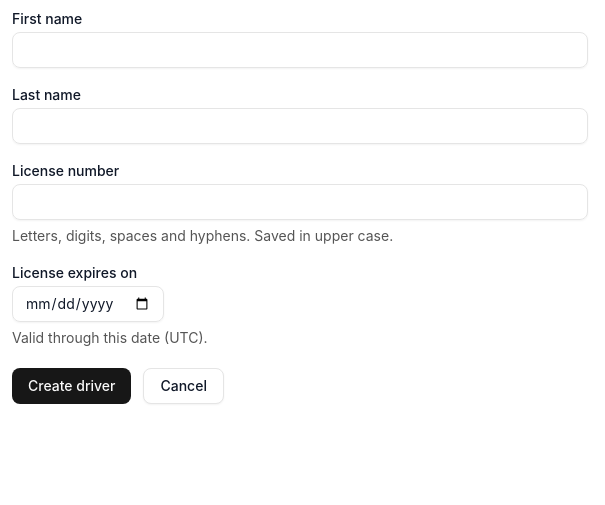
Test: DriverForm › echoes values and wires errors with aria-describedby
This screenshot has width=605, height=505.
Type "Ada" into the field labelled "First name" at (300, 50), box 12,32 -> 588,68
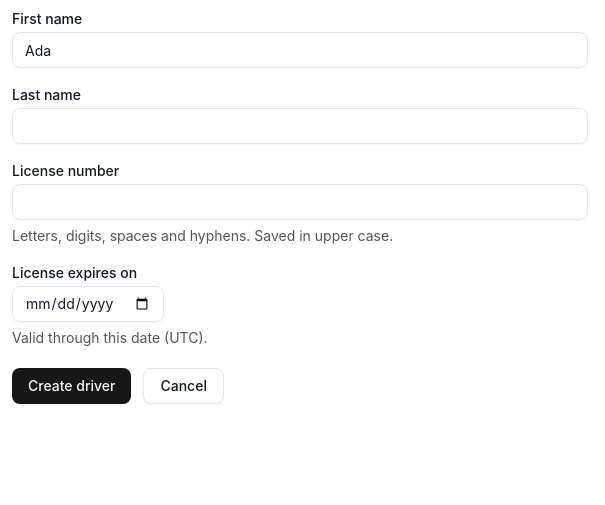
Type "ab-1" into the field labelled "License number" at (300, 202), box 12,184 -> 588,220
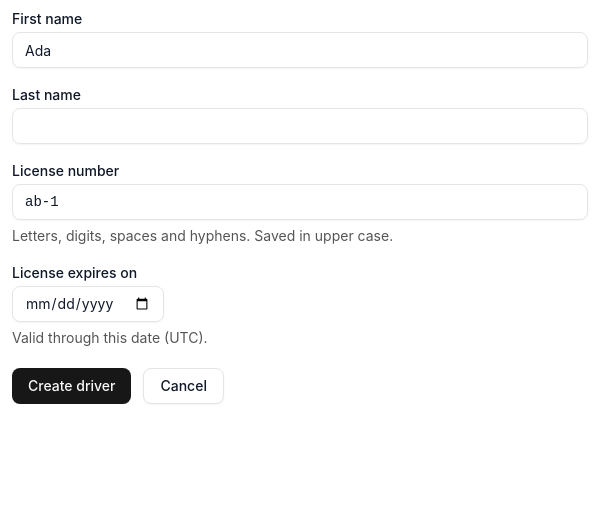
Submit the form
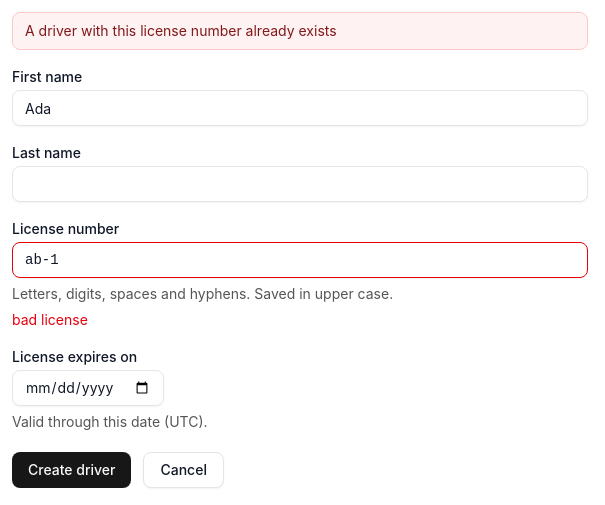
Now the message reads "A driver with this license number already exists", box 25,22 -> 337,39
